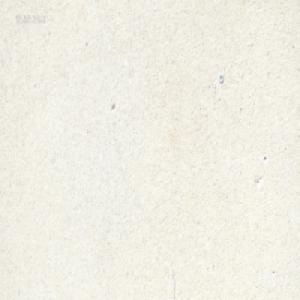Washer: (218, 72, 223, 83)
